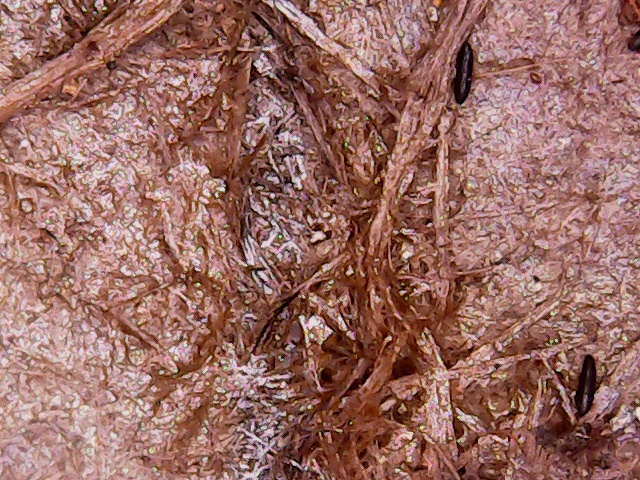full: (443, 31, 480, 107), (571, 346, 602, 422)
